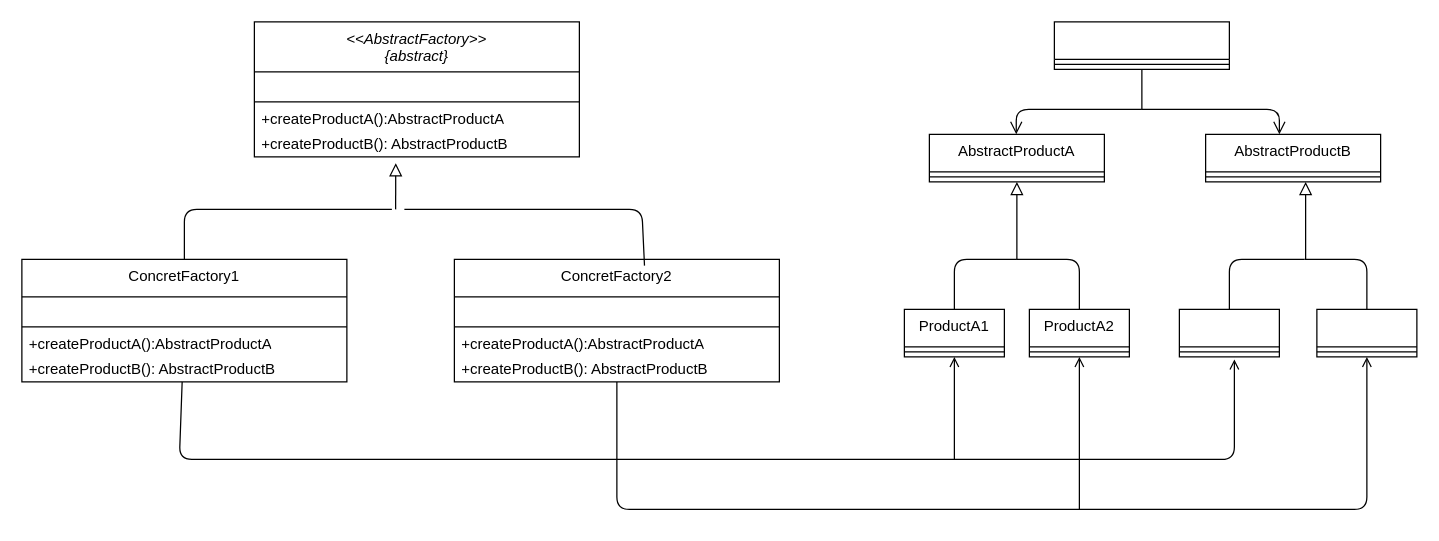
Some shapes in this 1439 by 541 pixel diagram are drawn without their labels. Here are the shapes that lost their labels. From the top down, the centre of each, then its label:
At point 1141,45: "Client".
At point 1228,332: "ProductB1".
At point 1366,332: "ProductB2".
